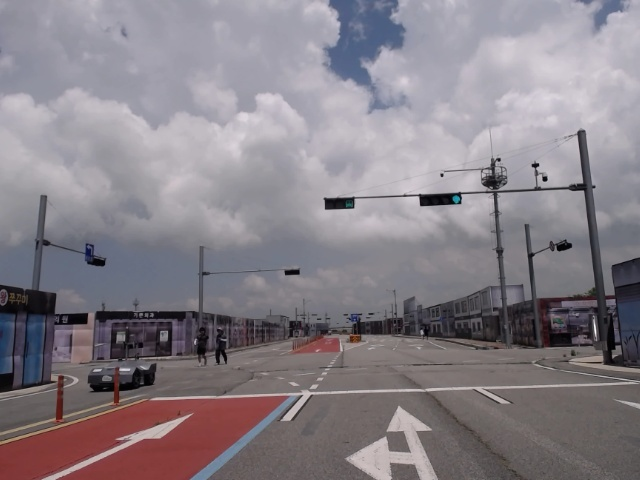straight_green_4: (416, 195, 463, 205)
